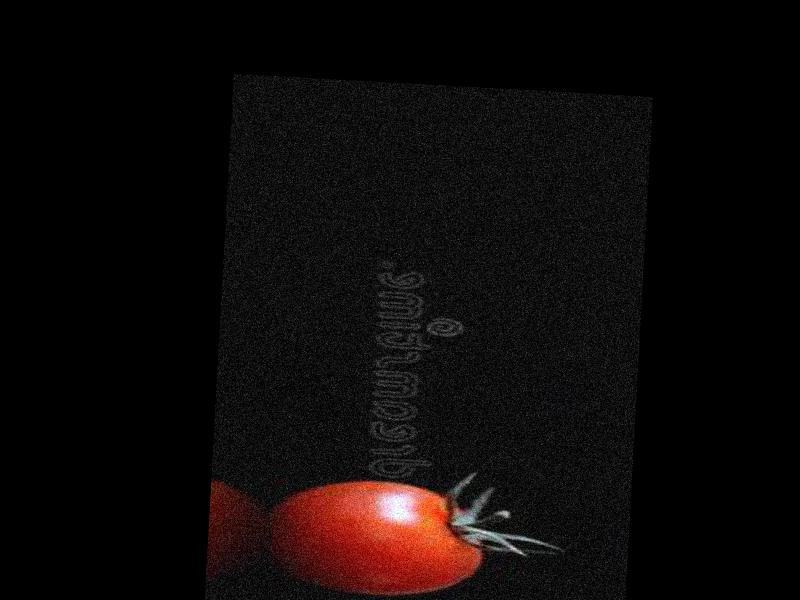Tomato: (268, 475, 487, 599)
